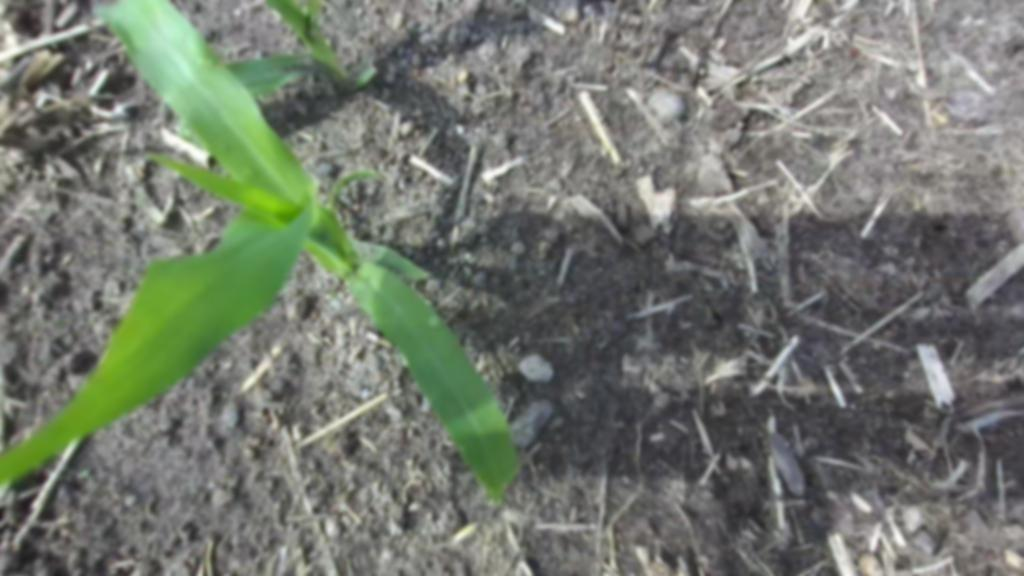BroWeed: (444, 516, 482, 553), (133, 159, 146, 180), (77, 468, 90, 480)
